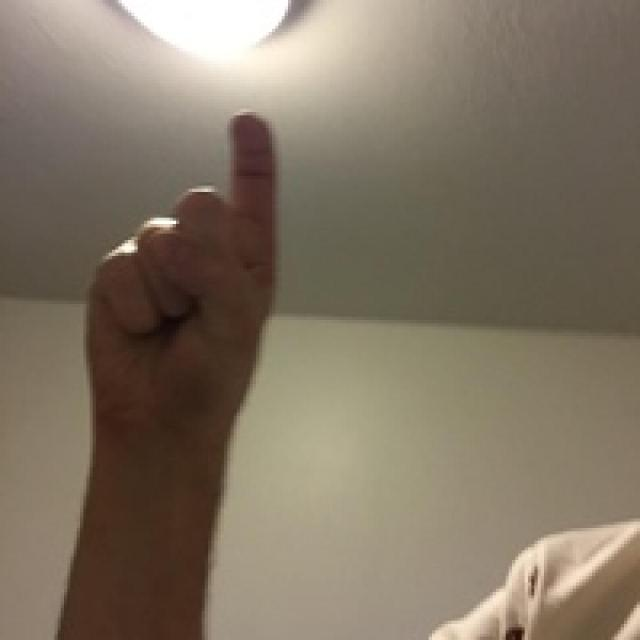X: (46, 89, 312, 420)
